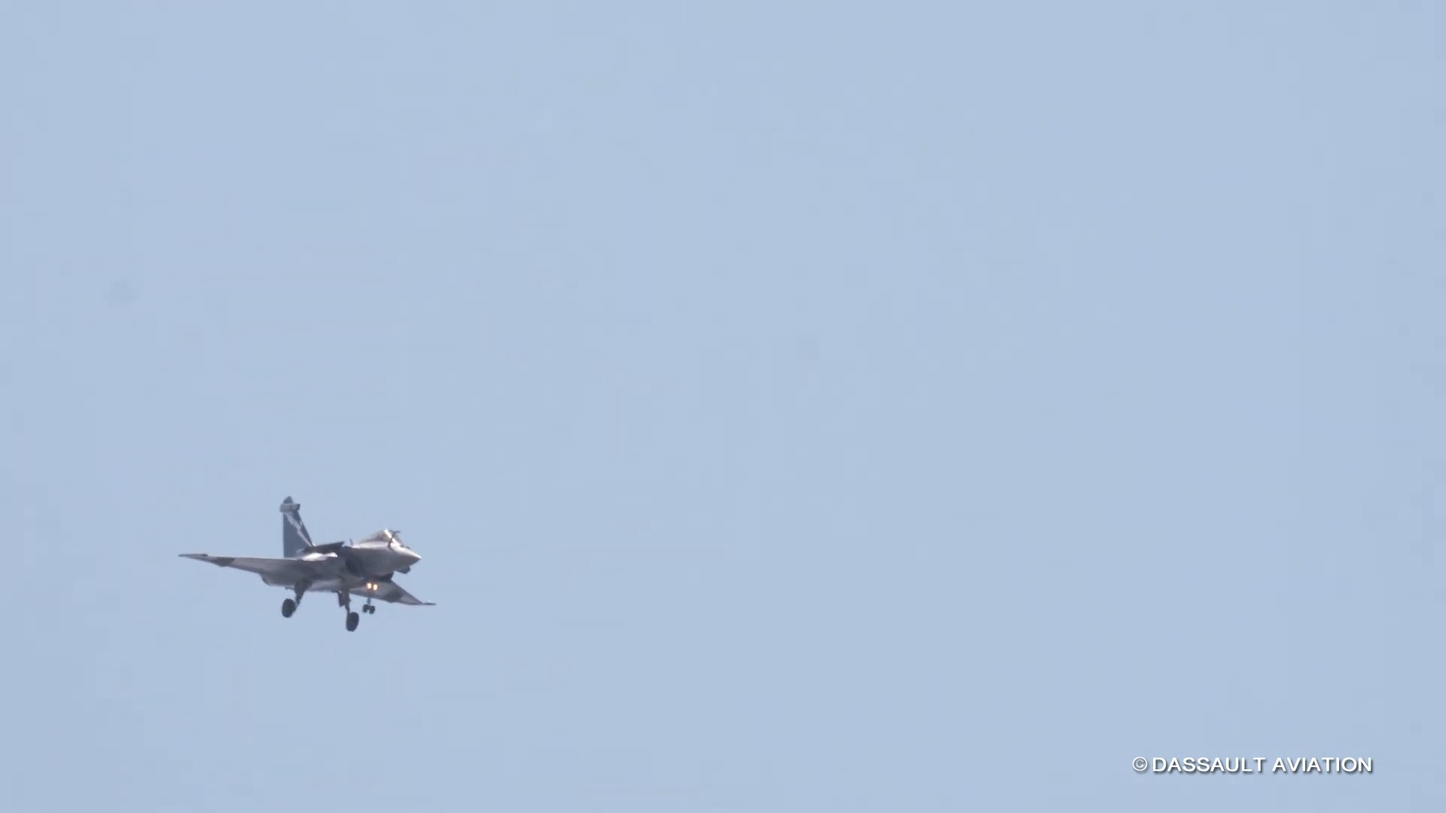Rafale: (169, 482, 442, 637)
